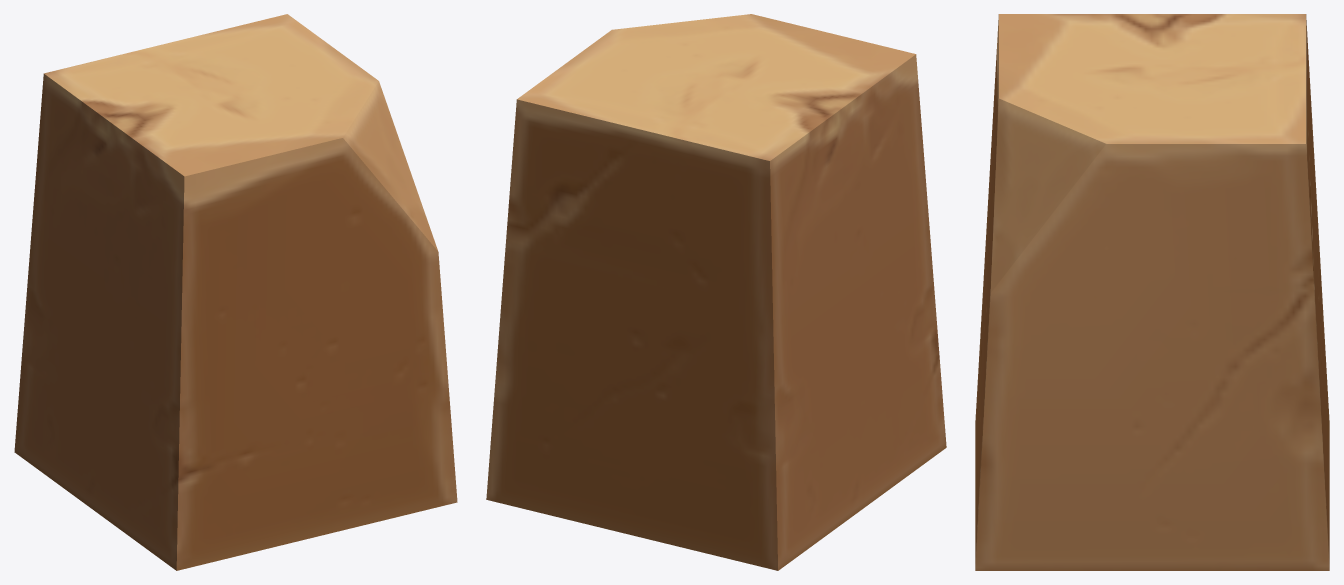
File: Tall Rock_01.fbx
3 views of the same model, side by side, from view 1: azimuth 30°, elevation 25°; view 2: azimuth 150°, elevation 25°; view 3: azimuth 270°, elevation 25° (orthographic). The views are drawn at different scales.
Parts seen in each view (by area): view 1: Tall Rock_01; view 2: Tall Rock_01; view 3: Tall Rock_01.
Part boxes in pixels (x1=…): Tall Rock_01: x1=14, y1=14, x2=457, y2=570; Tall Rock_01: x1=486, y1=14, x2=946, y2=570; Tall Rock_01: x1=975, y1=14, x2=1329, y2=570.
Size of the model in its own units: 0.1 by 0.13 by 0.1.
